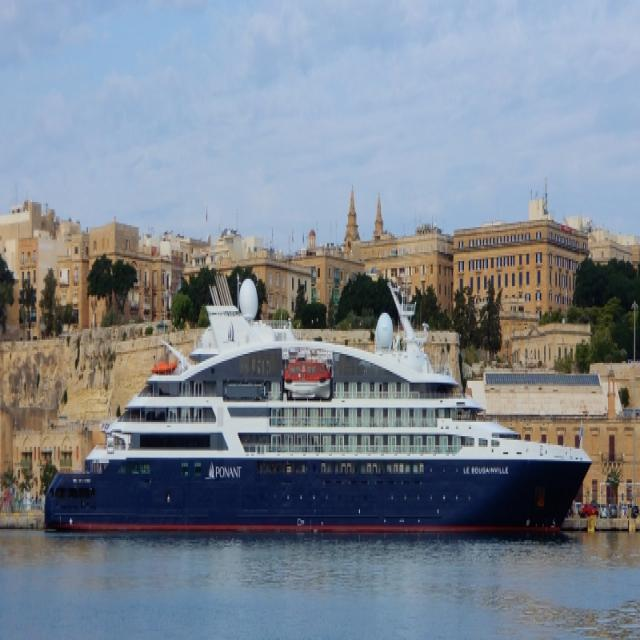cruises: (42, 287, 594, 543)
